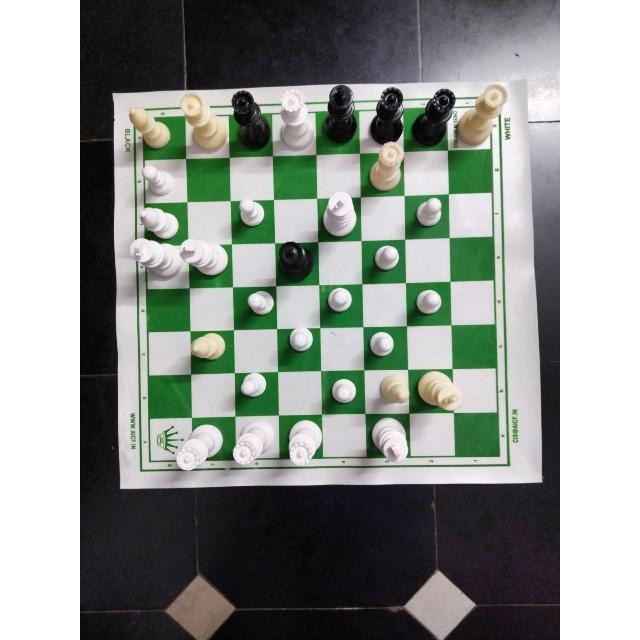black-king: (312, 85, 363, 151)
black-queen: (232, 88, 274, 151), (413, 89, 459, 146), (369, 86, 407, 144), (276, 242, 315, 282)
white-bishop: (125, 105, 179, 147), (137, 206, 186, 241), (376, 373, 416, 411), (189, 332, 226, 362)
white-king: (415, 369, 462, 417), (128, 239, 179, 282), (369, 418, 411, 466), (316, 192, 357, 234), (183, 241, 229, 277)
white-pawn: (132, 164, 178, 197), (289, 326, 322, 370), (238, 195, 270, 238), (239, 288, 281, 319), (414, 192, 446, 230), (238, 367, 268, 407), (369, 245, 399, 279), (328, 373, 355, 409), (416, 283, 444, 316), (366, 330, 400, 354), (323, 287, 353, 312)
white-queen: (178, 88, 230, 156), (466, 80, 511, 151), (169, 422, 226, 474), (276, 87, 316, 150), (278, 414, 326, 466), (230, 417, 277, 469), (365, 146, 409, 191)
